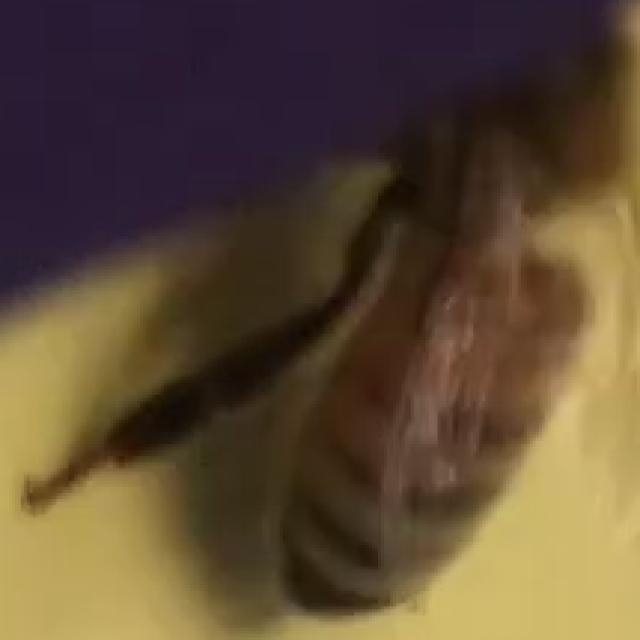honeybee: (76, 51, 640, 624)
